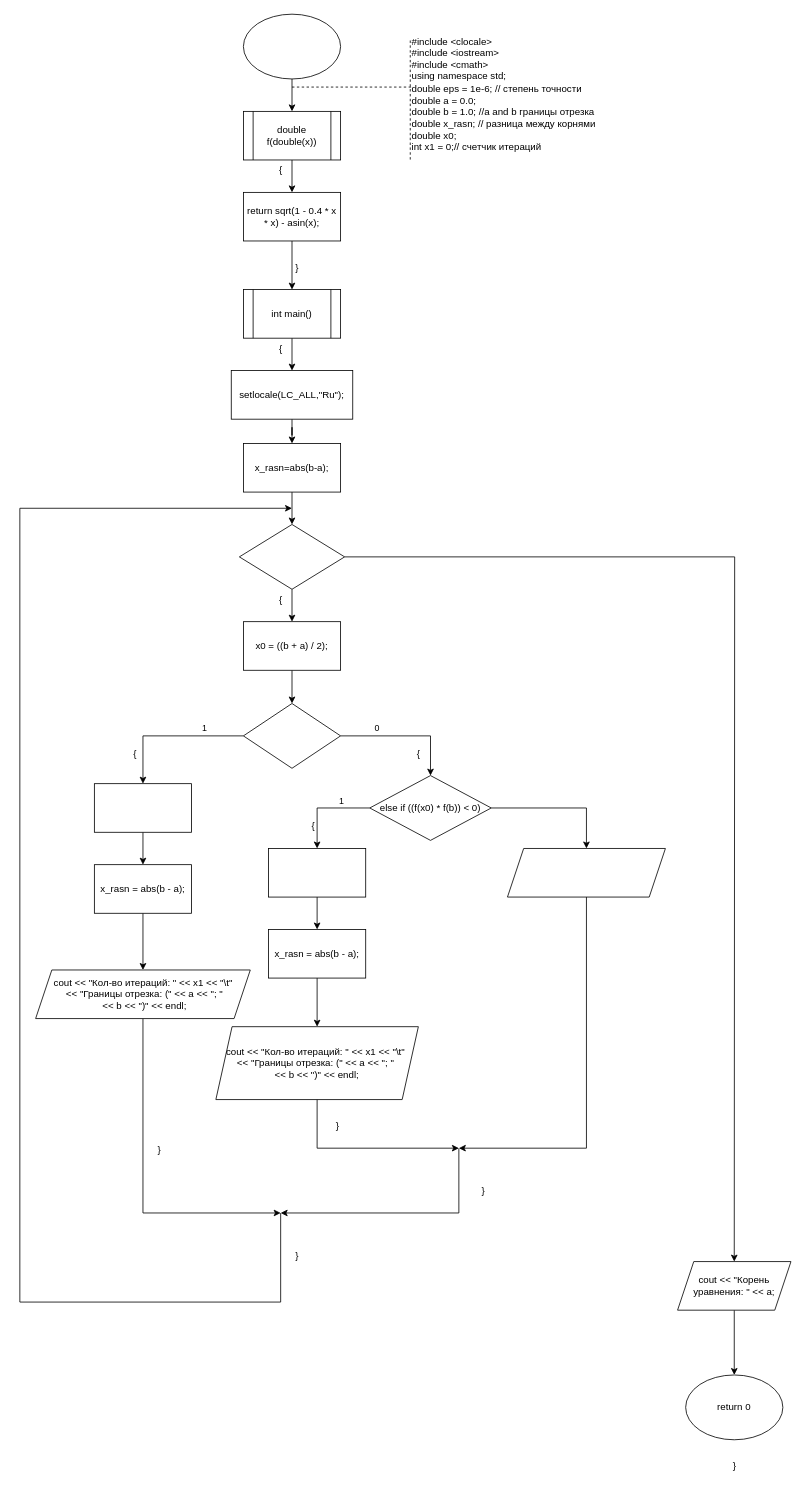
Some shapes in this 805 by 1493 pixel diagram are drawn without their labels. The box of each missing label's shape, as (x1, y1, x2, y2) in pixels:
a = x0;: (268, 848, 366, 897)
b = x0;: (94, 783, 192, 832)
cout << "Корней нет" << endl;: (507, 848, 665, 897)
if ((f(a) * f(x0)) < 0): (243, 703, 341, 768)
while(x_rasn>eps): (239, 524, 345, 589)
Начало: (243, 13, 341, 79)
